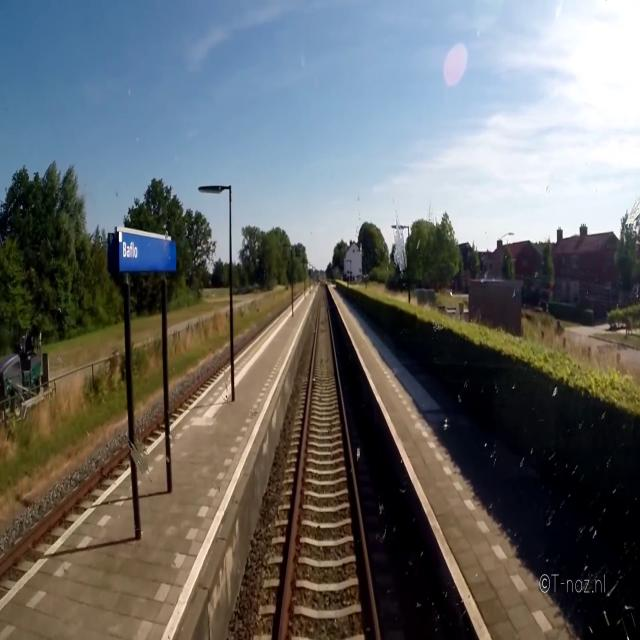rail-track: (283, 290, 376, 639)
